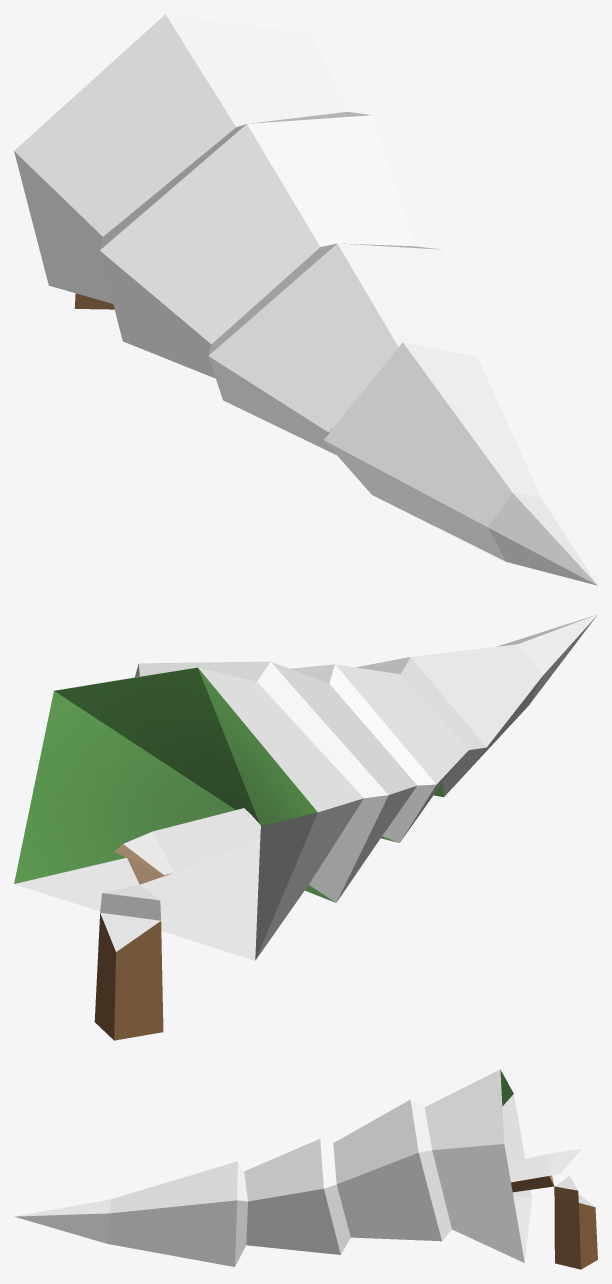
The model's file is Fir_Tree_crk_m_Snow_BT_03.fbx.
The picture shows the model from 3 angles, top to bottom: view 1: azimuth 30°, elevation 25°; view 2: azimuth 150°, elevation 25°; view 3: azimuth 270°, elevation 25°; orthographic projection. The views are drawn at different scales.
Visible parts, largest first — view 1: Fir_Tree_crk_m_Snow_BT_03; view 2: Fir_Tree_crk_m_Snow_BT_03; view 3: Fir_Tree_crk_m_Snow_BT_03.
Boxes of the visible parts, x1,y1,x2,y2 form: Fir_Tree_crk_m_Snow_BT_03: (14,14,597,585); Fir_Tree_crk_m_Snow_BT_03: (14,614,597,1040); Fir_Tree_crk_m_Snow_BT_03: (14,1069,597,1269).
Size of the model in its own units: 114 by 117 by 325.
